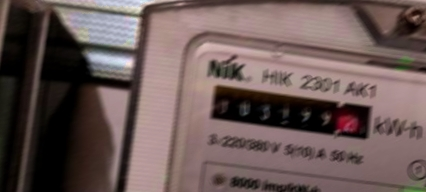0: (215, 93, 228, 113), (238, 95, 249, 114)
1: (280, 97, 289, 117)
3: (259, 100, 268, 119)
6: (341, 117, 352, 133)
9: (319, 107, 330, 125), (299, 102, 309, 120)
screen: (203, 78, 378, 145)
